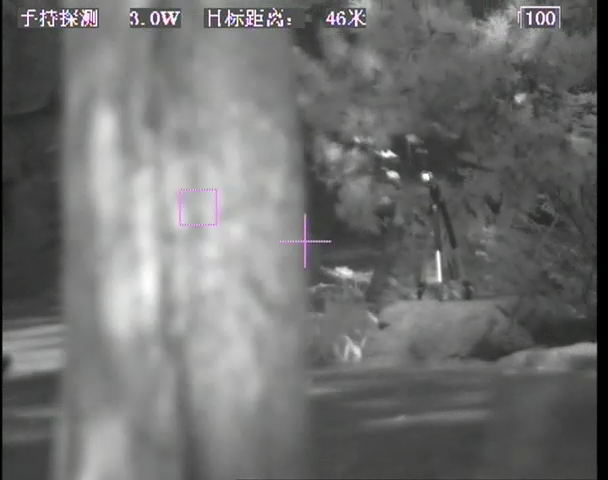my: (418, 169, 431, 182)
